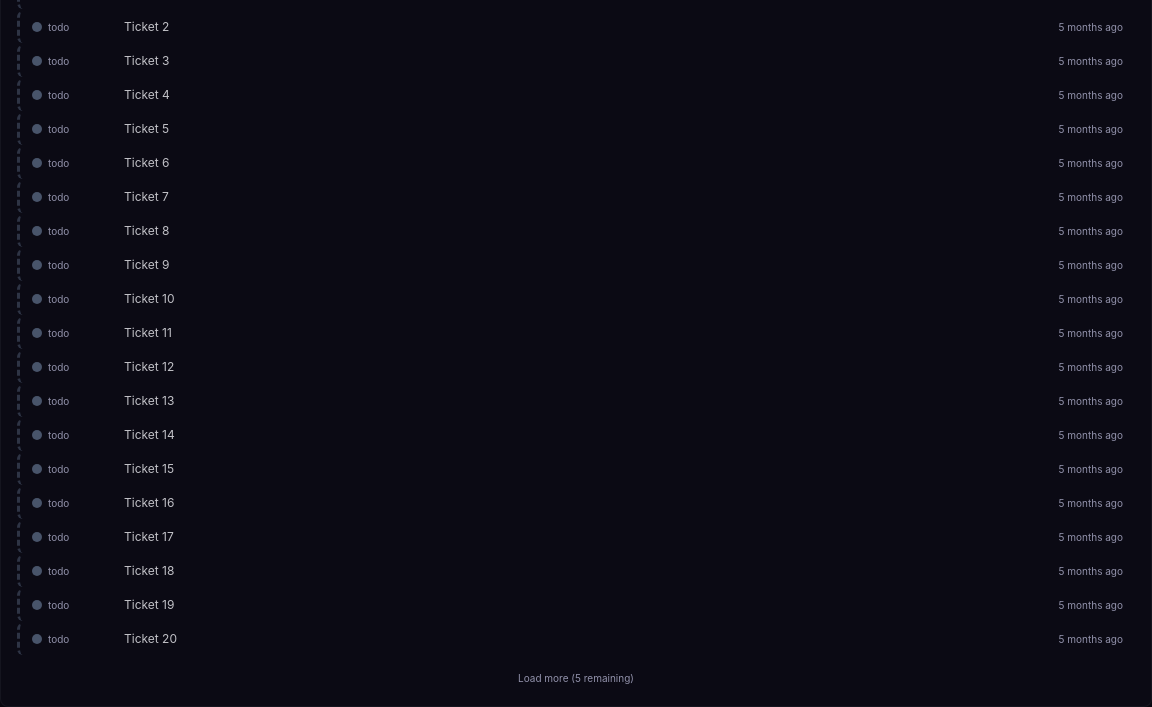
Test: TicketListView › pagination › loads more tickets when Load more is clicked
(page scrolled)
Expected: the text "Ticket 25" is not shown
Click the button "Load more (5 remaining)" at (576, 678), box [506,667,646,690]
(page scrolled)
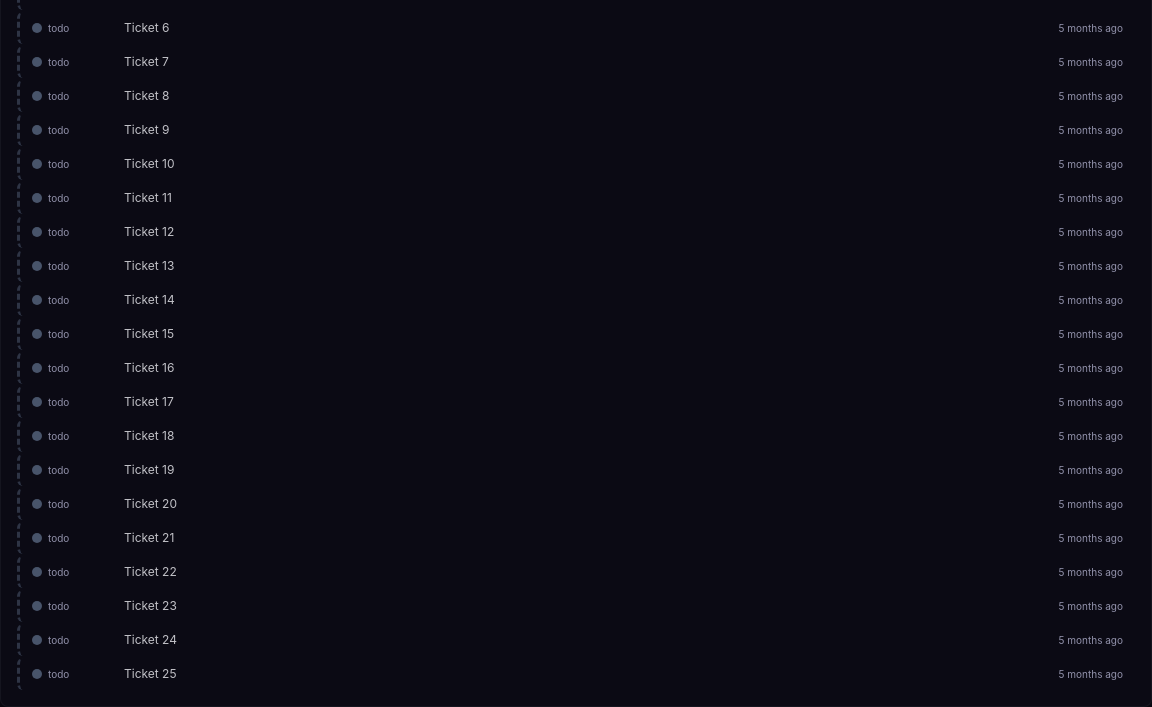
Expected: the text "Ticket 25" is shown, [124,666,177,682]
